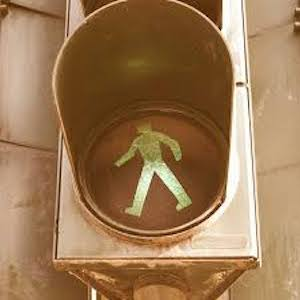green: (108, 119, 203, 226)
